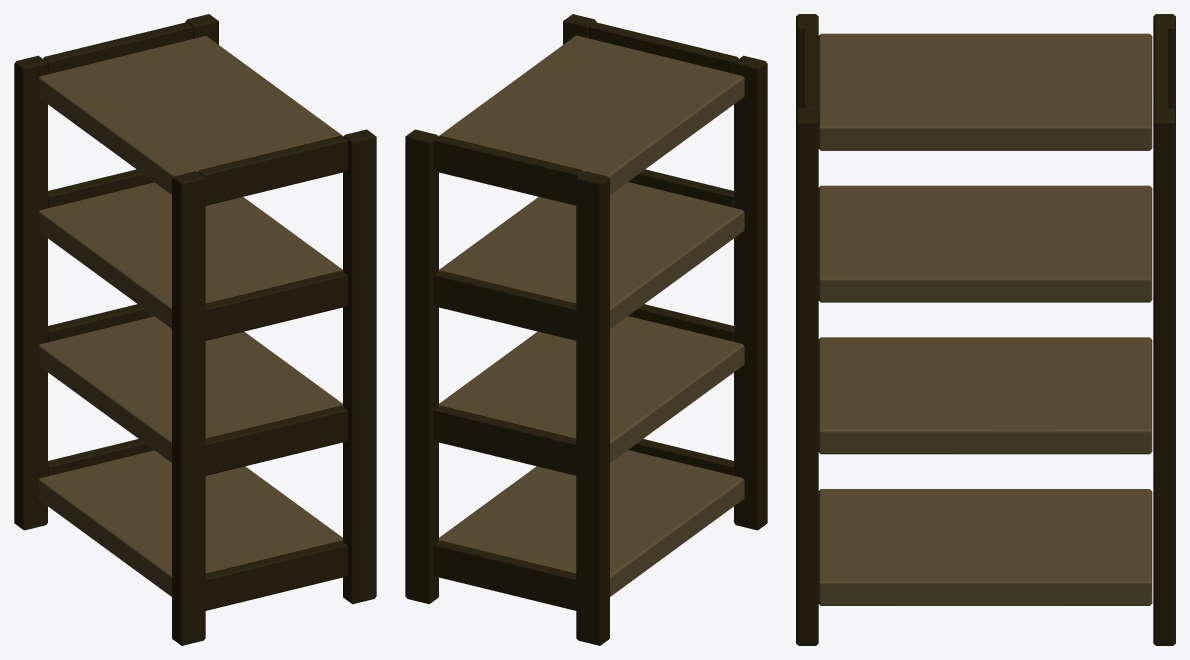
File: BasicRack.fbx
3 renders of one model, left to right at view 1: azimuth 30°, elevation 25°; view 2: azimuth 150°, elevation 25°; view 3: azimuth 270°, elevation 25°, orthographic. The views are drawn at different scales.
Visible parts, largest first — view 1: Plane; view 2: Plane; view 3: Plane.
Boxes of the visible parts, x1,y1,x2,y2 form: Plane: (14, 14, 376, 645); Plane: (405, 14, 767, 645); Plane: (796, 14, 1175, 645).
Size of the model in its own units: 92.24 by 208 by 136.
